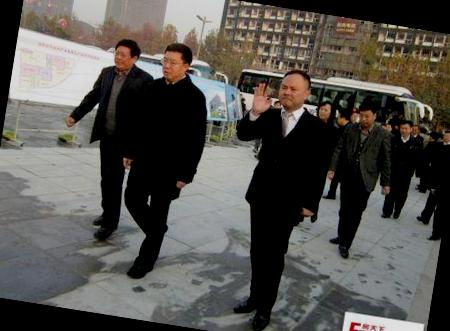no_helmet: (156, 36, 197, 86), (275, 64, 315, 112), (109, 35, 144, 73), (354, 94, 379, 128), (314, 94, 337, 126), (396, 114, 414, 140), (336, 106, 352, 128)
